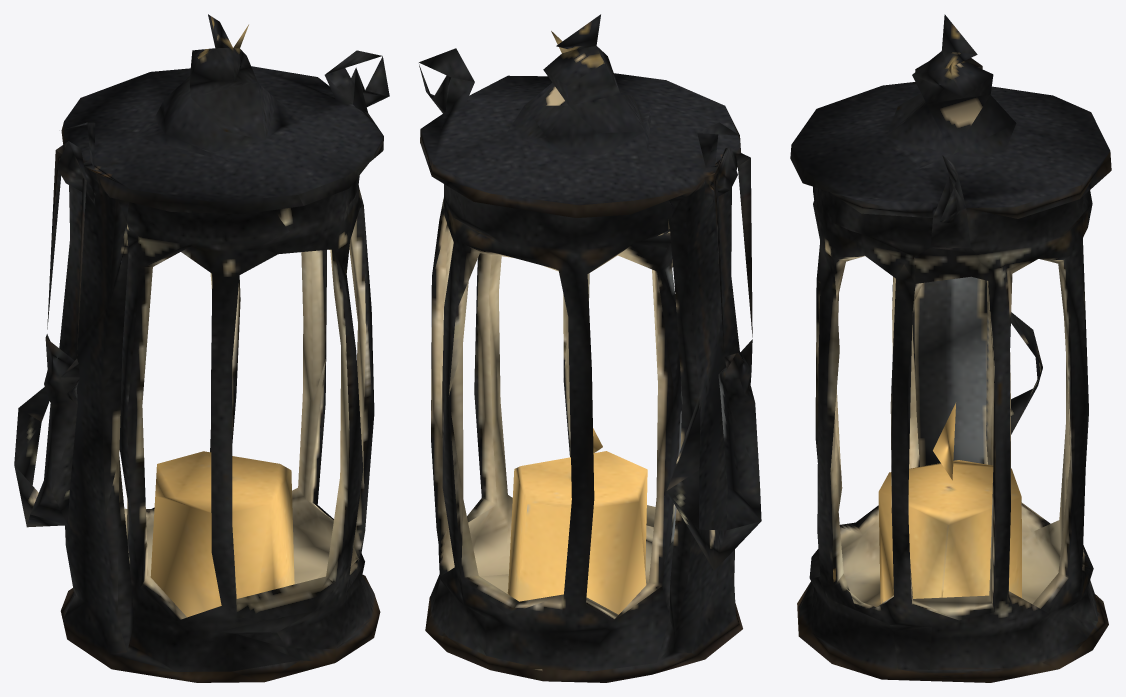
Rendered from lantern.glb.
3 renders of one model, left to right at view 1: azimuth 30°, elevation 25°; view 2: azimuth 150°, elevation 25°; view 3: azimuth 270°, elevation 25°, orthographic.
Parts seen in each view (by area): view 1: Mesh_0.001; view 2: Mesh_0.001; view 3: Mesh_0.001.
Boxes of the visible parts, x1,y1,x2,y2 form: Mesh_0.001: (14, 14, 389, 682); Mesh_0.001: (419, 14, 761, 682); Mesh_0.001: (790, 14, 1111, 682).
Size of the model in its own units: 1.1 by 1.84 by 0.8953.
Materials: 1 (1 with a texture image).
